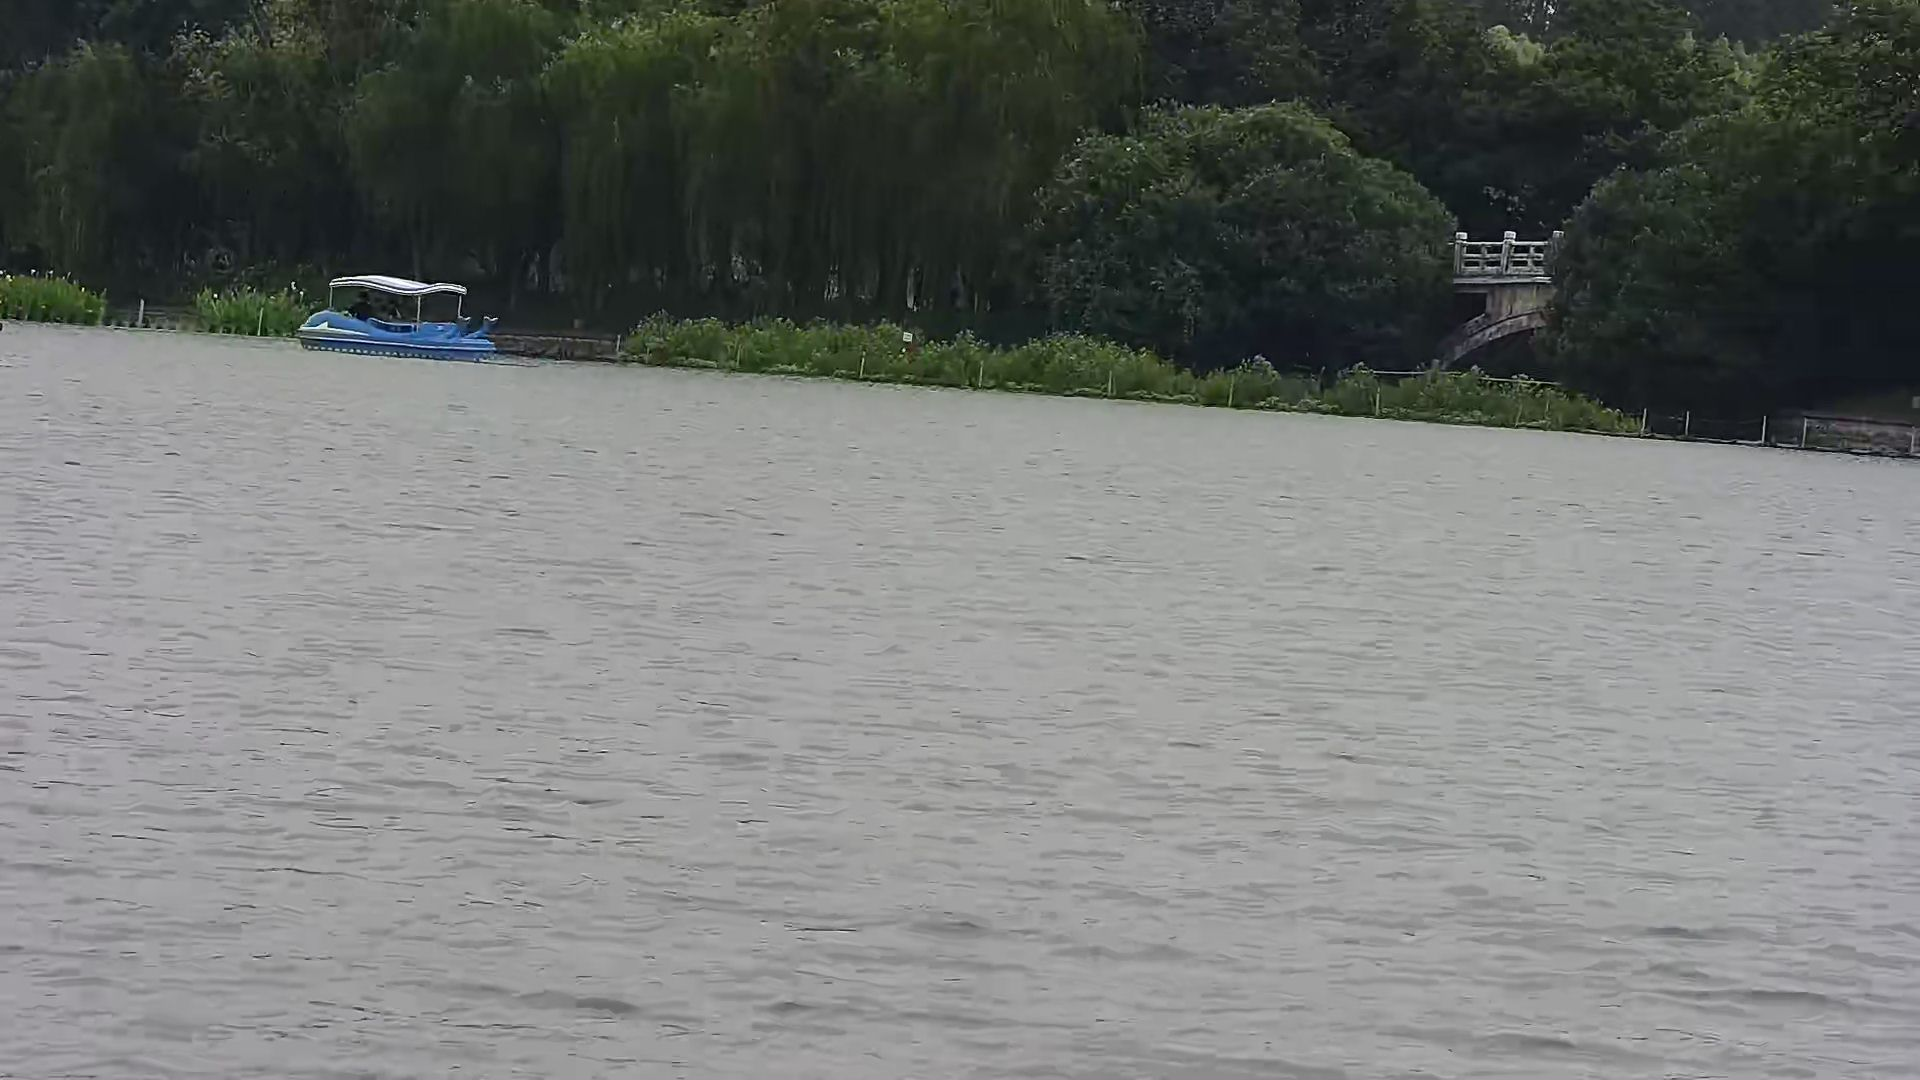boat: (297, 265, 504, 360)
